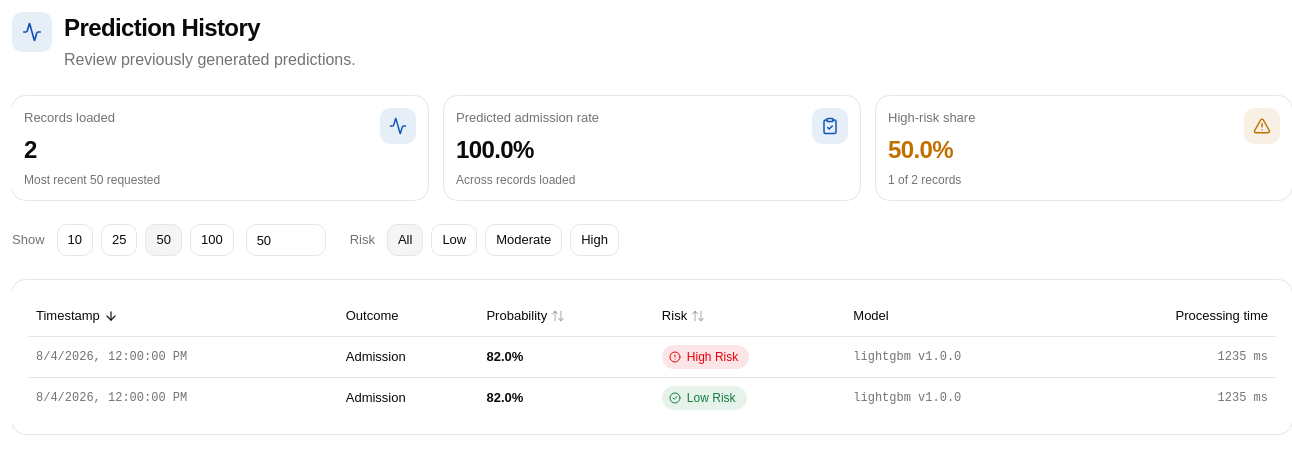
PredictionHistoryPage › filters the currently-loaded page by risk category without a new fetch
Expected: the text "high risk" is shown 2 times, [662,344,749,368]; [662,386,747,410]
Click the radio button labelled "Low" at (454, 240), box [431,224,477,256]
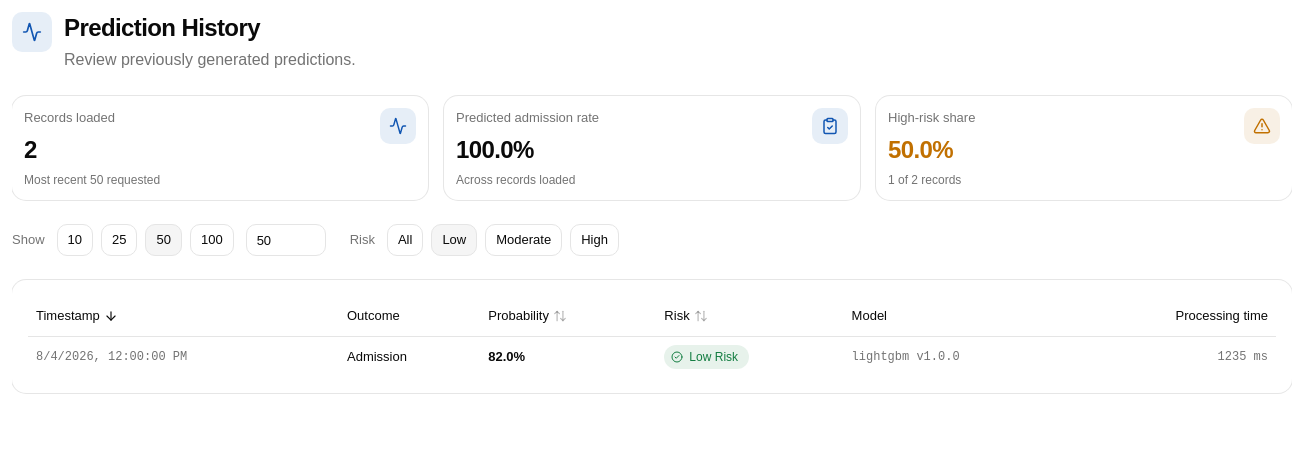
Expected: the text "low risk" is shown once, [664,344,749,368]
